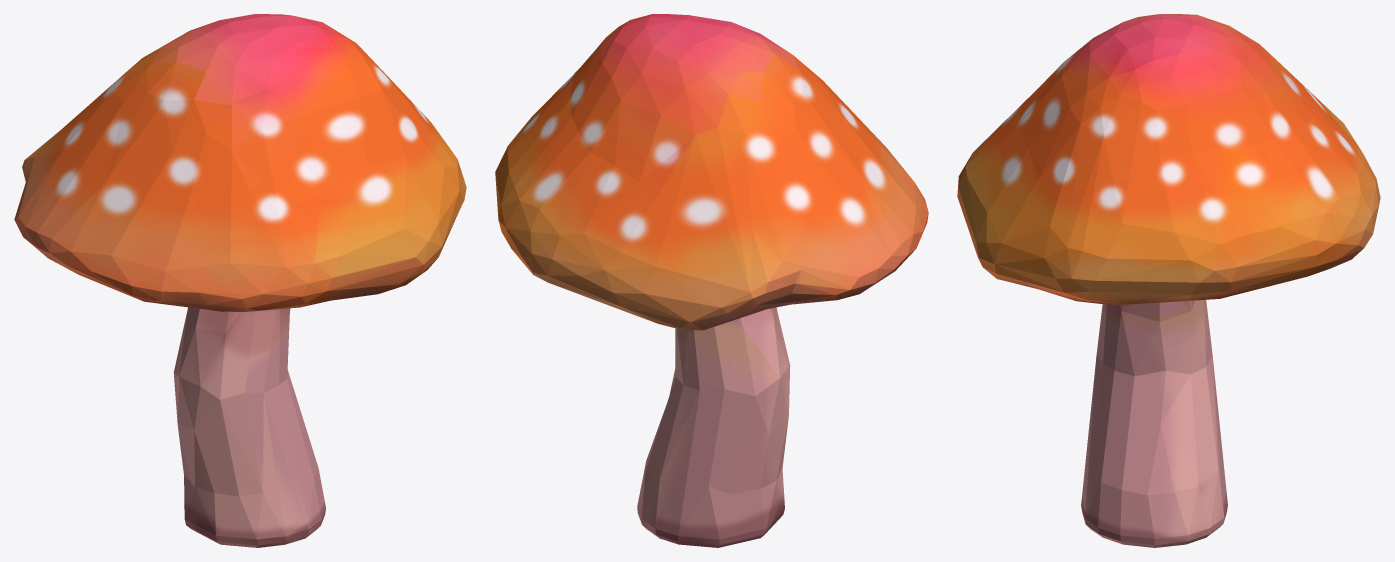
File: low_poly_stylized_mushroom.glb
3 renders of one model, left to right at view 1: azimuth 30°, elevation 25°; view 2: azimuth 150°, elevation 25°; view 3: azimuth 270°, elevation 25°, orthographic.
Parts seen in each view (by area): view 1: Circle; view 2: Circle; view 3: Circle.
Boxes of the visible parts, x1,y1,x2,y2 form: Circle: (14, 14, 466, 547); Circle: (495, 14, 928, 547); Circle: (957, 14, 1380, 547).
Bounding box in the file's own units: 1.43 × 1.76 × 1.36.
1 material, 1 textured.
